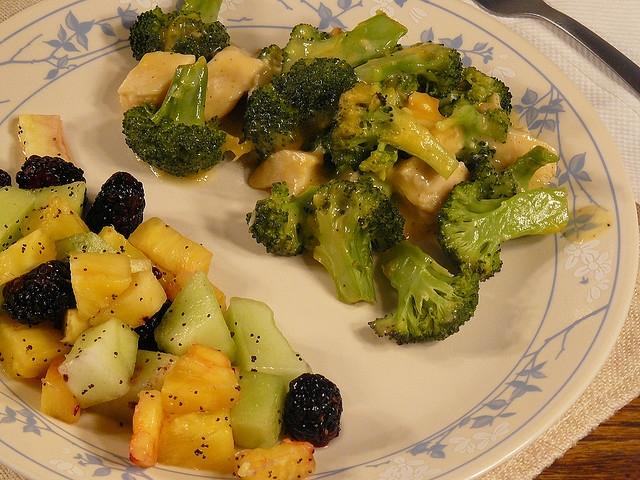blackberry: (1, 260, 76, 331), (284, 372, 344, 448), (86, 171, 146, 240), (15, 154, 86, 190), (133, 299, 173, 353), (0, 169, 12, 188)
broccoli: (325, 70, 460, 182), (299, 176, 409, 308), (438, 178, 569, 282), (122, 55, 227, 177), (242, 57, 358, 163), (368, 240, 480, 345), (280, 10, 408, 74), (128, 0, 230, 65), (354, 42, 462, 98), (456, 142, 560, 200), (246, 181, 319, 257), (434, 94, 514, 150), (438, 83, 490, 108)
pineapple: (162, 343, 241, 415), (127, 217, 213, 277), (158, 410, 236, 474), (0, 312, 73, 380), (88, 272, 167, 330), (70, 251, 132, 322), (18, 193, 91, 241), (234, 438, 316, 480), (1, 228, 57, 286), (129, 390, 166, 469), (164, 270, 227, 316), (40, 356, 81, 424), (97, 226, 152, 273), (18, 114, 70, 163), (60, 308, 92, 344)
